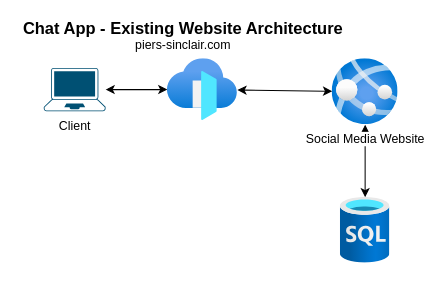
This 446x302 diagram has some shape labels left out. The shapes that lost their labels are listed below. From the top down, each one's centre as x and y in pixels, then its label:
At pixel 202 89: "Front Door Load Balancer".
At pixel 364 230: "Social Media Database".
